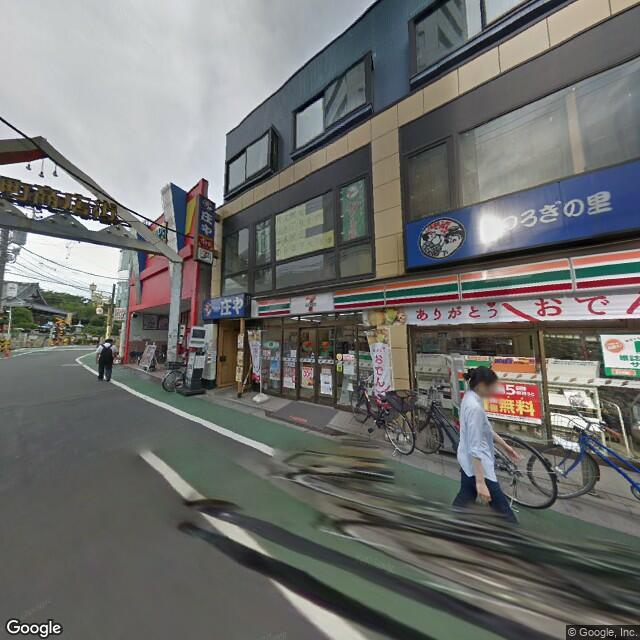7-eleven: (257, 241, 639, 327)
